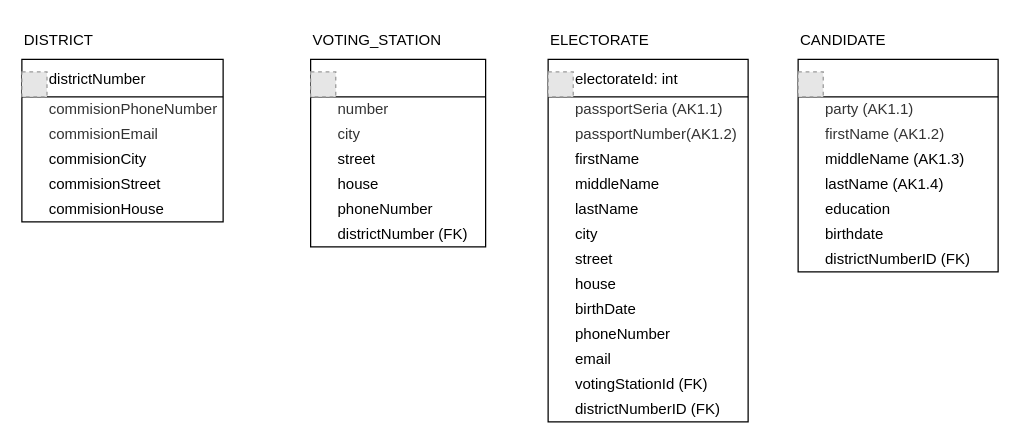
The diagram is 1020 pixels wide and 444 high, and some of its shapes have lost their labels. Grey dashed boxes stand in for pictures. The shapes that lost their labels are listed below. From the top down, each one's box as (x1, y1, x2, y2) in pixels, then its label:
(309, 58, 486, 247): votingStationId
(797, 58, 998, 272): candidateId: int
